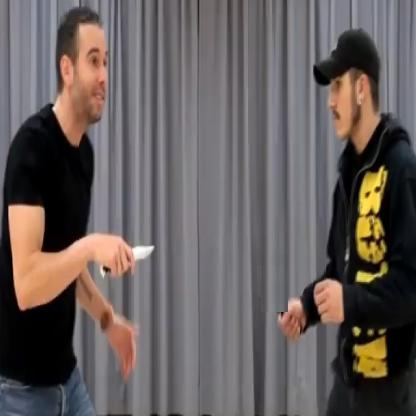knife: (97, 228, 158, 280)
